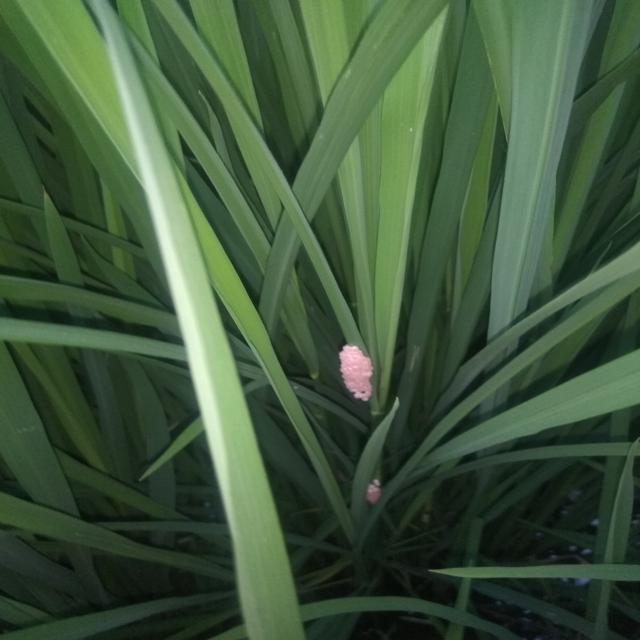Leaf blast: (332, 340, 388, 407), (358, 470, 392, 511)
